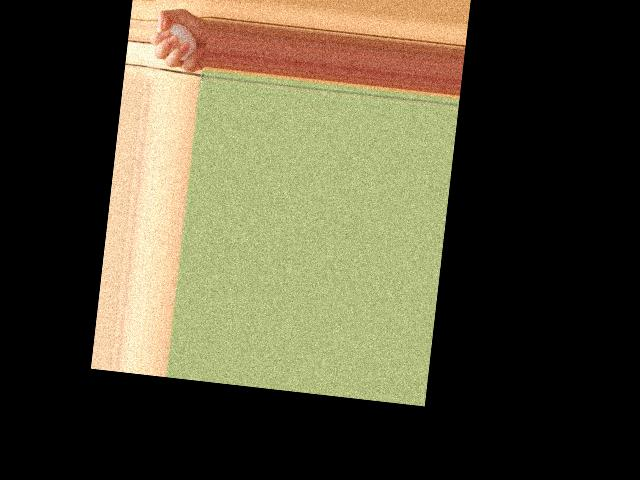egg: (161, 22, 199, 62)
